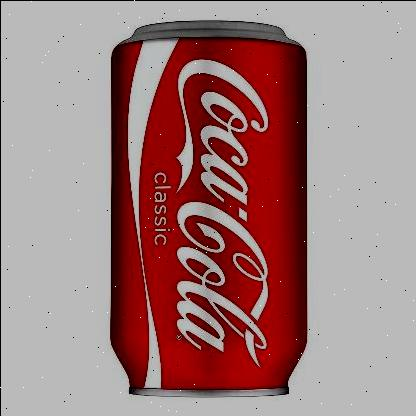Can: (108, 19, 306, 399)
